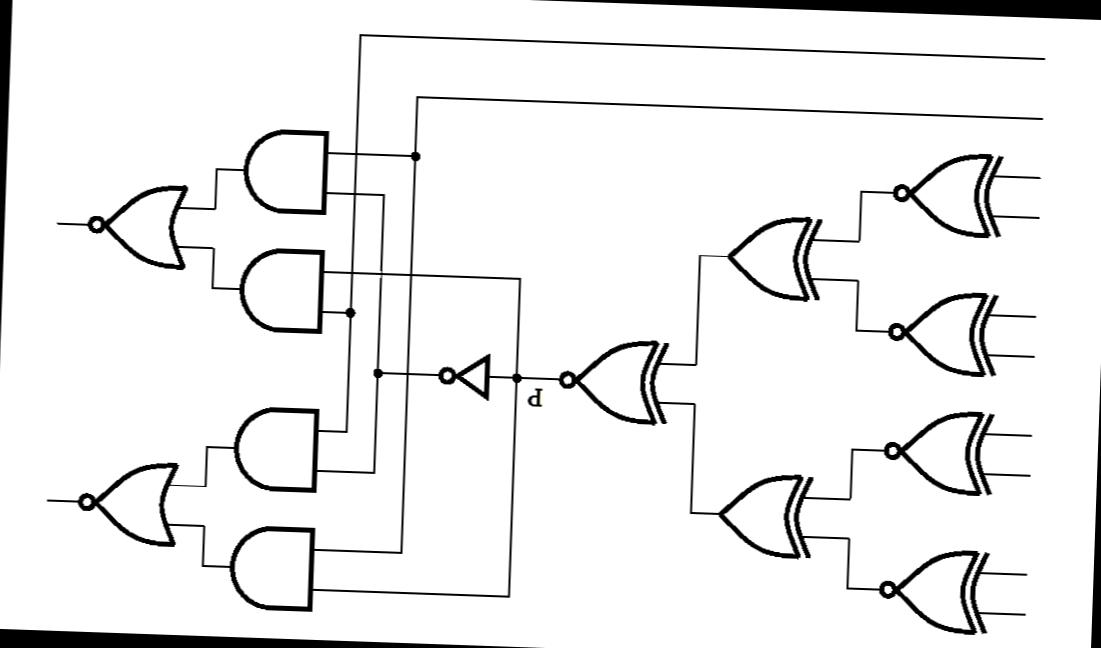and: (230, 120, 338, 225), (222, 396, 329, 501), (218, 516, 326, 618), (229, 240, 333, 341)
nor: (67, 453, 184, 554), (78, 177, 195, 277)
not: (428, 344, 502, 408)
xnor: (864, 536, 1004, 644), (870, 400, 1006, 505), (880, 145, 1014, 248), (873, 283, 1009, 384), (550, 330, 676, 431)
xor: (716, 204, 830, 312), (707, 465, 820, 567)
